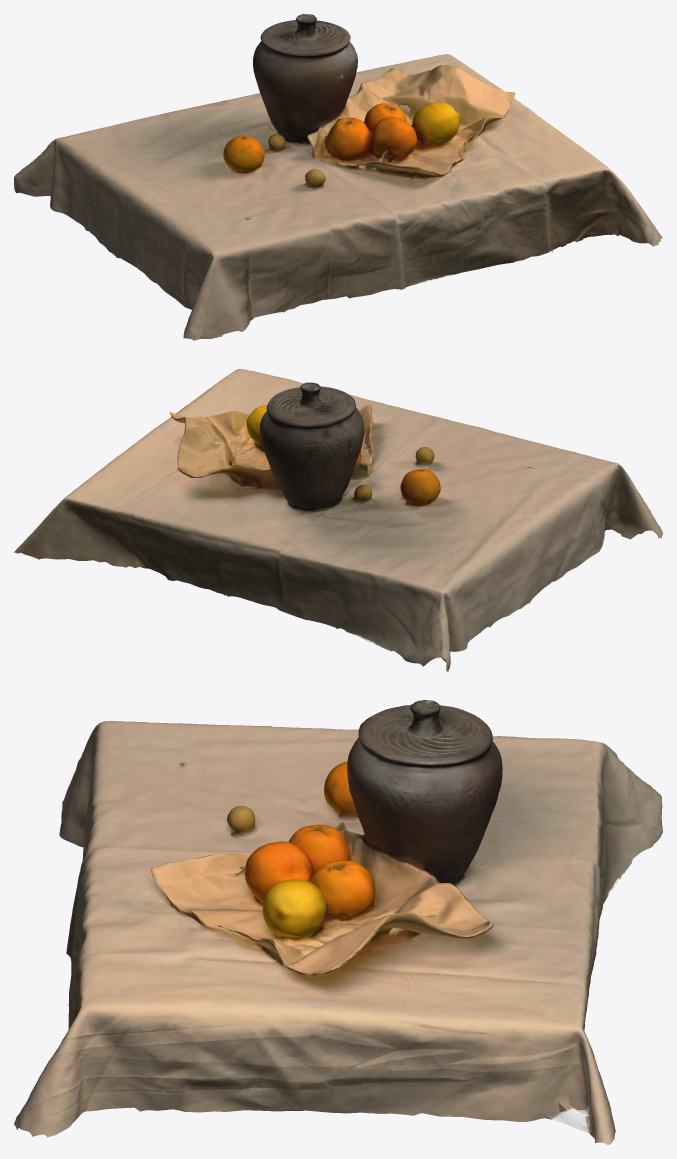
The model's file is 静物系列_陶罐柑橘05_opt.glb.
3 renders of one model, top to bottom at view 1: azimuth 30°, elevation 25°; view 2: azimuth 150°, elevation 25°; view 3: azimuth 270°, elevation 25°, orthographic. The views are drawn at different scales.
Parts seen in each view (by area): view 1: defaultMat, defaultMat_1; view 2: defaultMat, defaultMat_1; view 3: defaultMat, defaultMat_1.
Boxes of the visible parts, x1=… form: defaultMat: x1=14, y1=14, x2=662, y2=340; defaultMat_1: x1=20, y1=15, x2=660, y2=340; defaultMat: x1=14, y1=369, x2=662, y2=671; defaultMat_1: x1=16, y1=372, x2=642, y2=666; defaultMat: x1=14, y1=700, x2=662, y2=1144; defaultMat_1: x1=16, y1=700, x2=658, y2=1141.
Bounding box in the file's own units: 1.65 × 0.6 × 1.32.
1 material, 1 textured.
